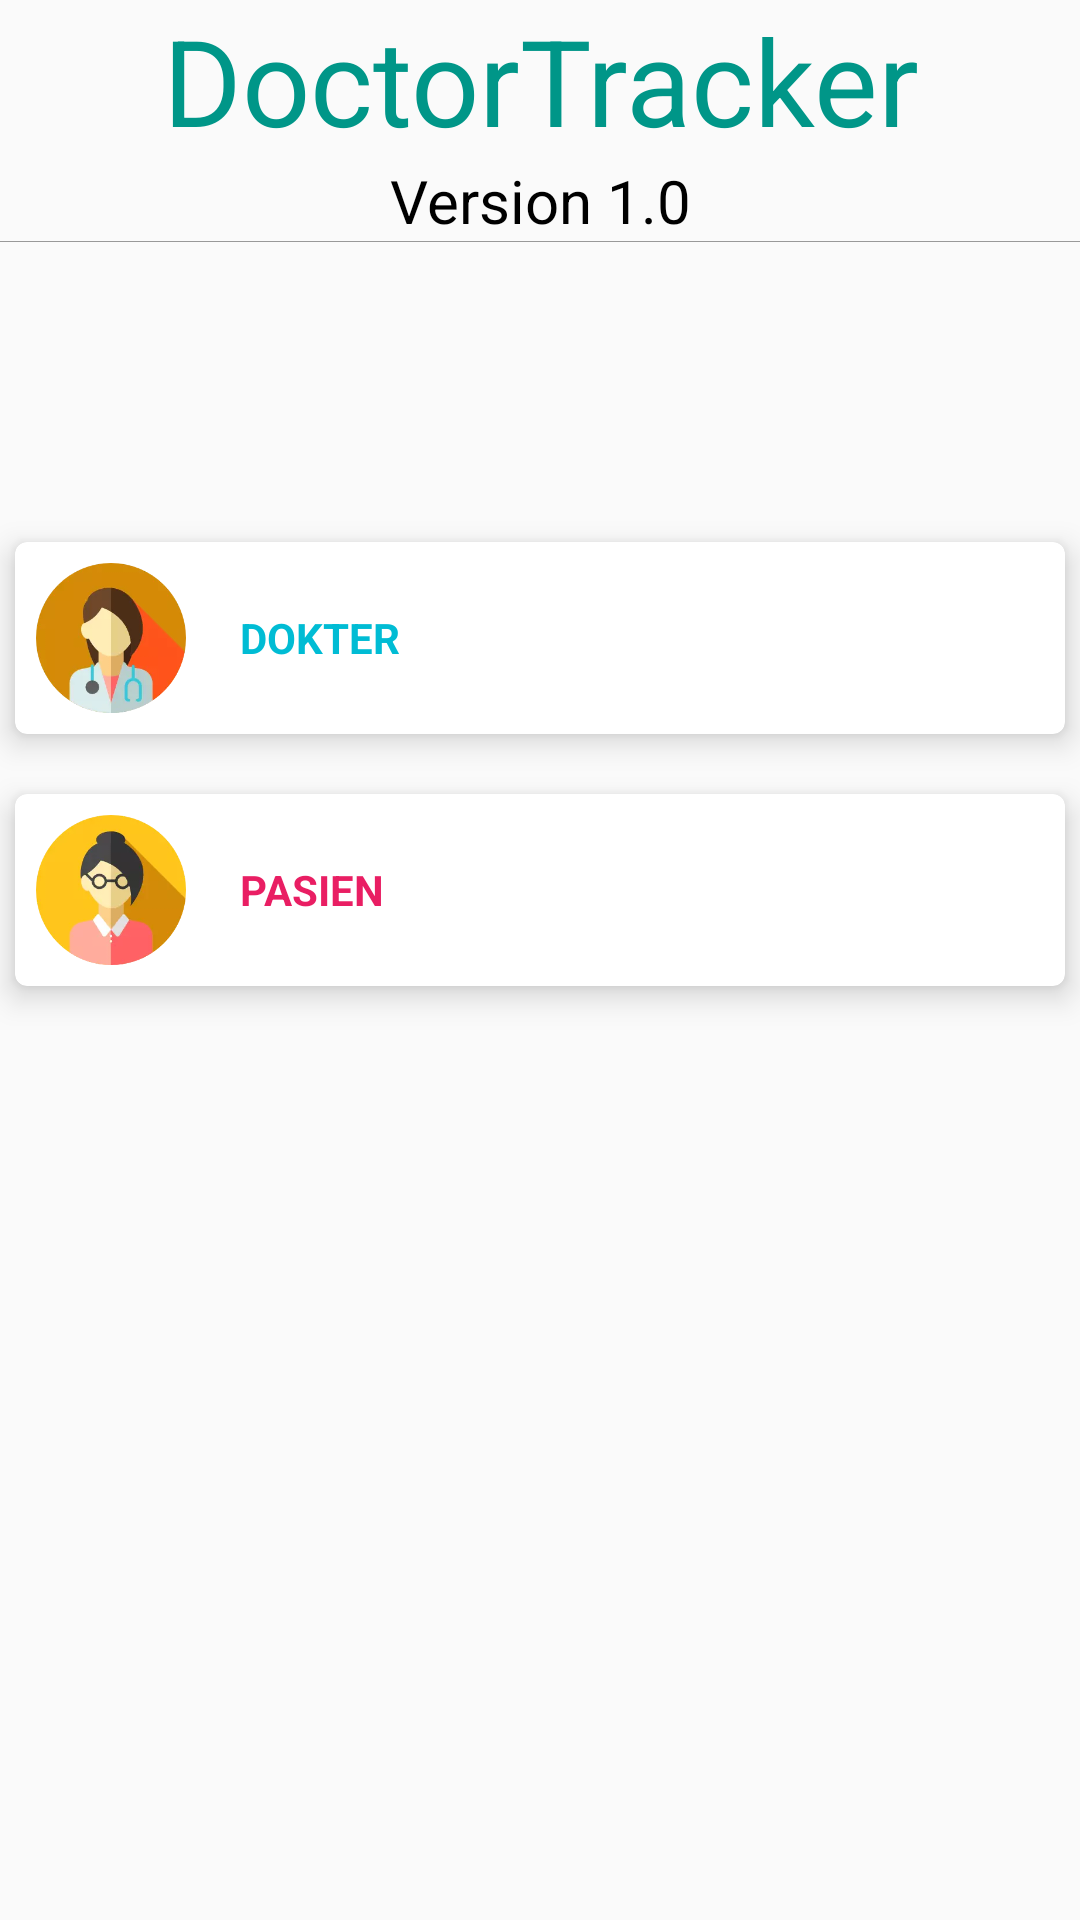

Where to tap for icons on this 1080*1920 app screen, as (x=x, y=y):
profile: (x=111, y=890)
